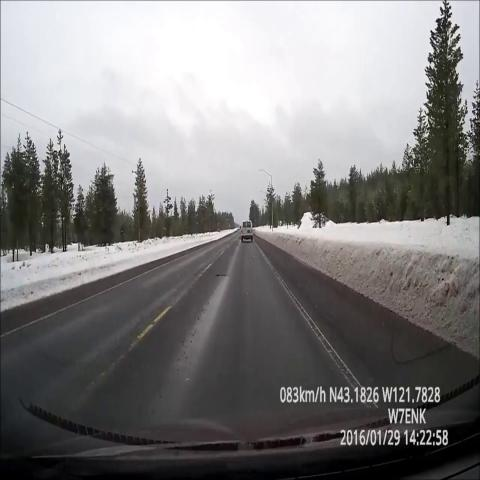pothole: (211, 266, 231, 287)
